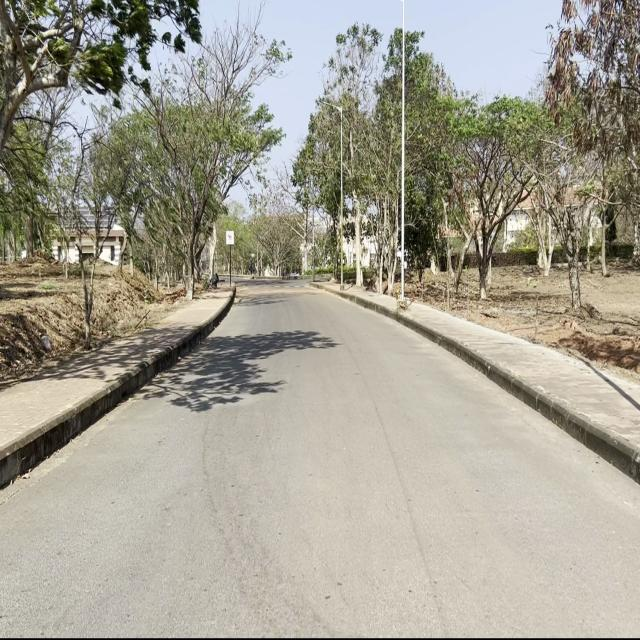Road: (4, 276, 638, 633)
